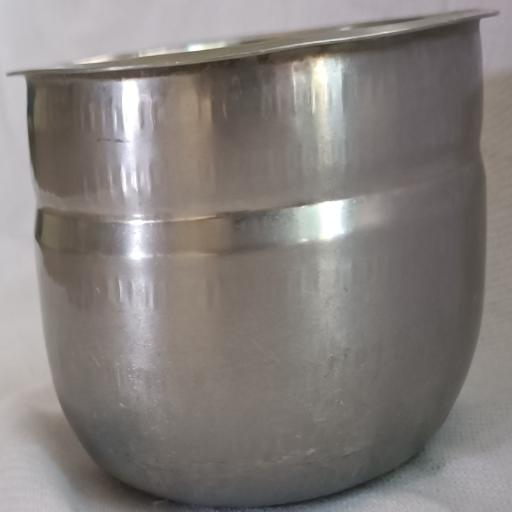vessel: (20, 10, 497, 505)
